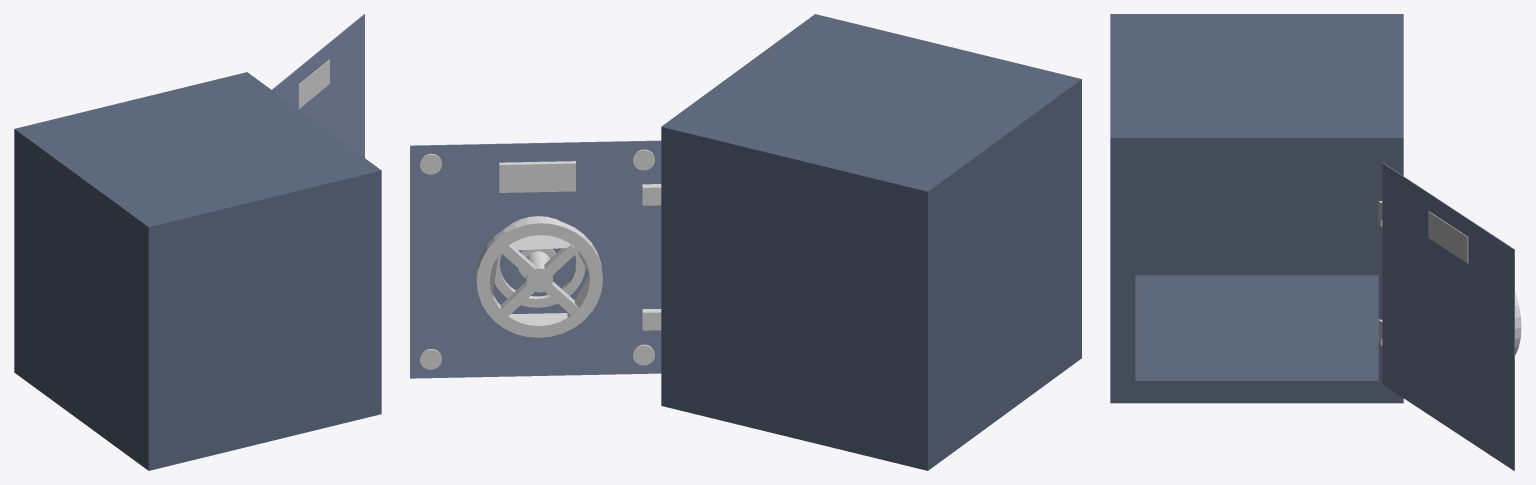
The model's file is safe-open.fbx.
The picture shows the model from 3 angles, left to right: view 1: azimuth 30°, elevation 25°; view 2: azimuth 150°, elevation 25°; view 3: azimuth 270°, elevation 25°; orthographic projection. The views are drawn at different scales.
Parts seen in each view (by area): view 1: Cube, Plane, Cube.003; view 2: Cube, Plane, Cylinder.001, Cylinder, Cube.003, Cylinder.006, Cube.002; view 3: Cube, Plane, Cube.003.
Boxes of the visible parts, bbox=[...] form: Cube: bbox=[14, 72, 381, 470]; Plane: bbox=[272, 14, 364, 157]; Cube.003: bbox=[298, 59, 329, 108]; Cube: bbox=[661, 14, 1081, 470]; Plane: bbox=[410, 140, 661, 378]; Cylinder.001: bbox=[476, 218, 602, 337]; Cylinder: bbox=[494, 216, 585, 307]; Cube.003: bbox=[499, 161, 575, 192]; Cylinder.006: bbox=[420, 149, 654, 369]; Cube.002: bbox=[642, 184, 661, 330]; Cube: bbox=[1110, 14, 1403, 403]; Plane: bbox=[1382, 162, 1514, 470]; Cube.003: bbox=[1428, 211, 1468, 263].
Bounding box in the file's own units: 5.94 × 3.45 × 4.84.
